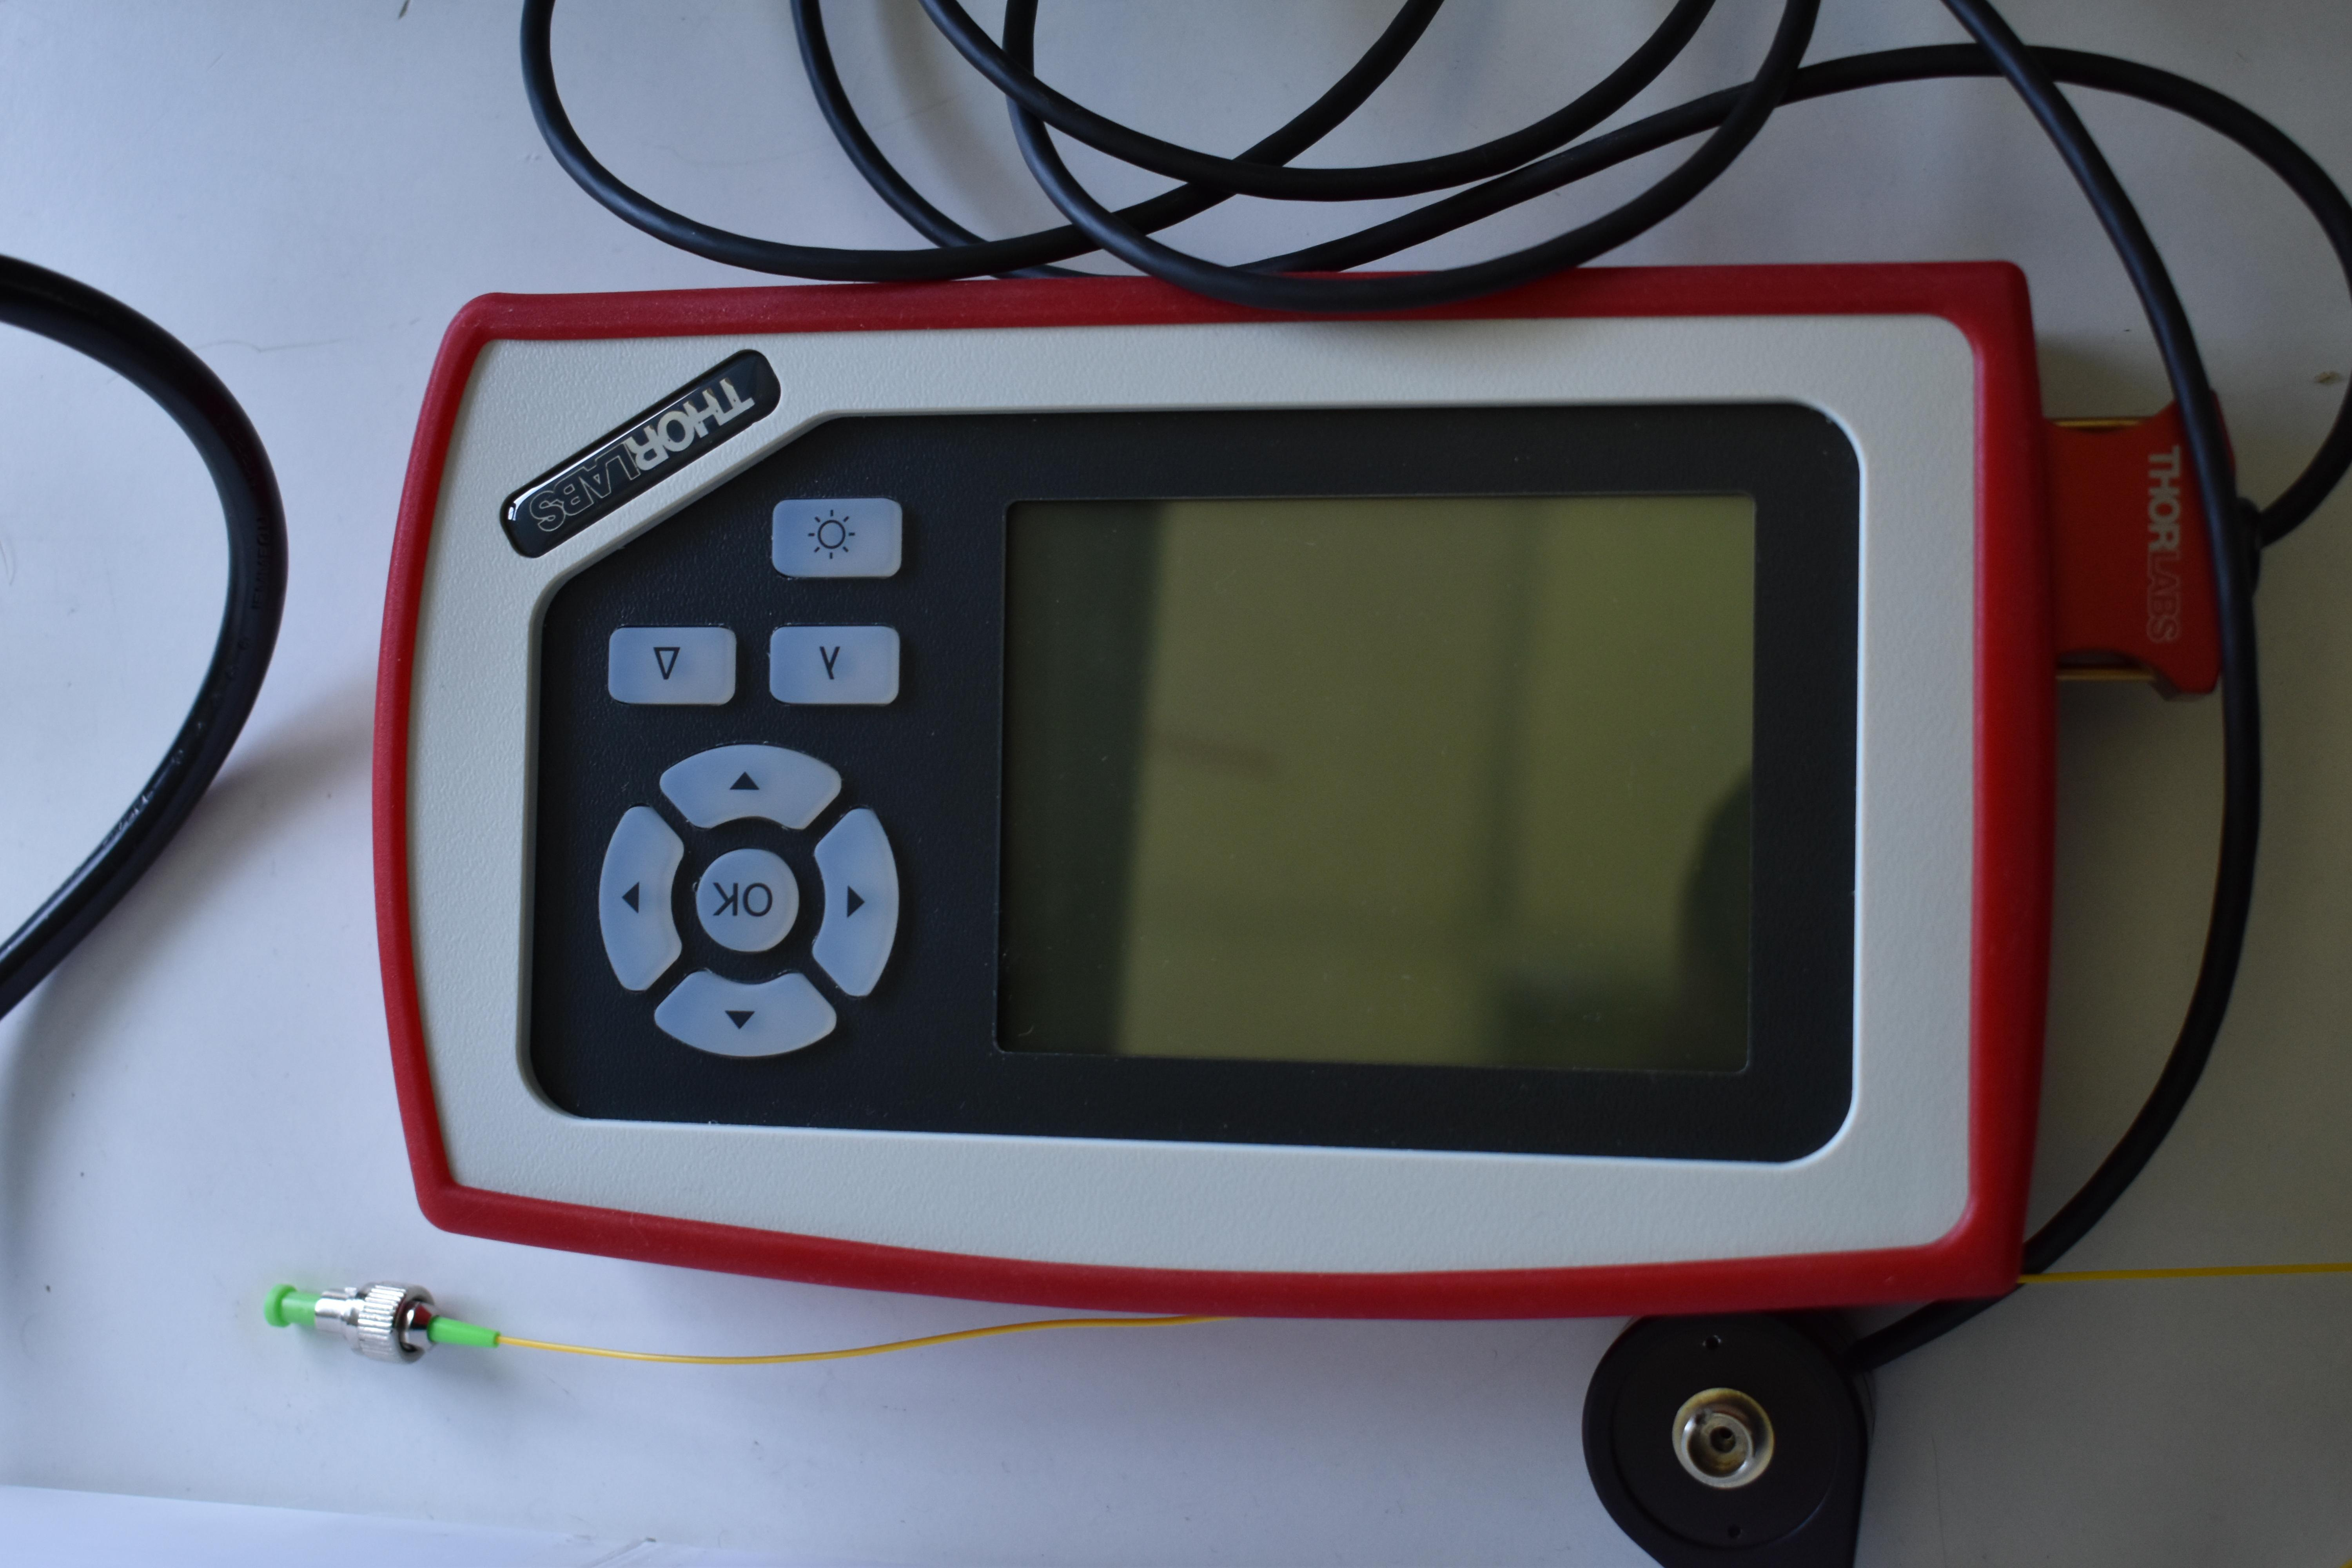powermeter: (346, 233, 2275, 1351)
